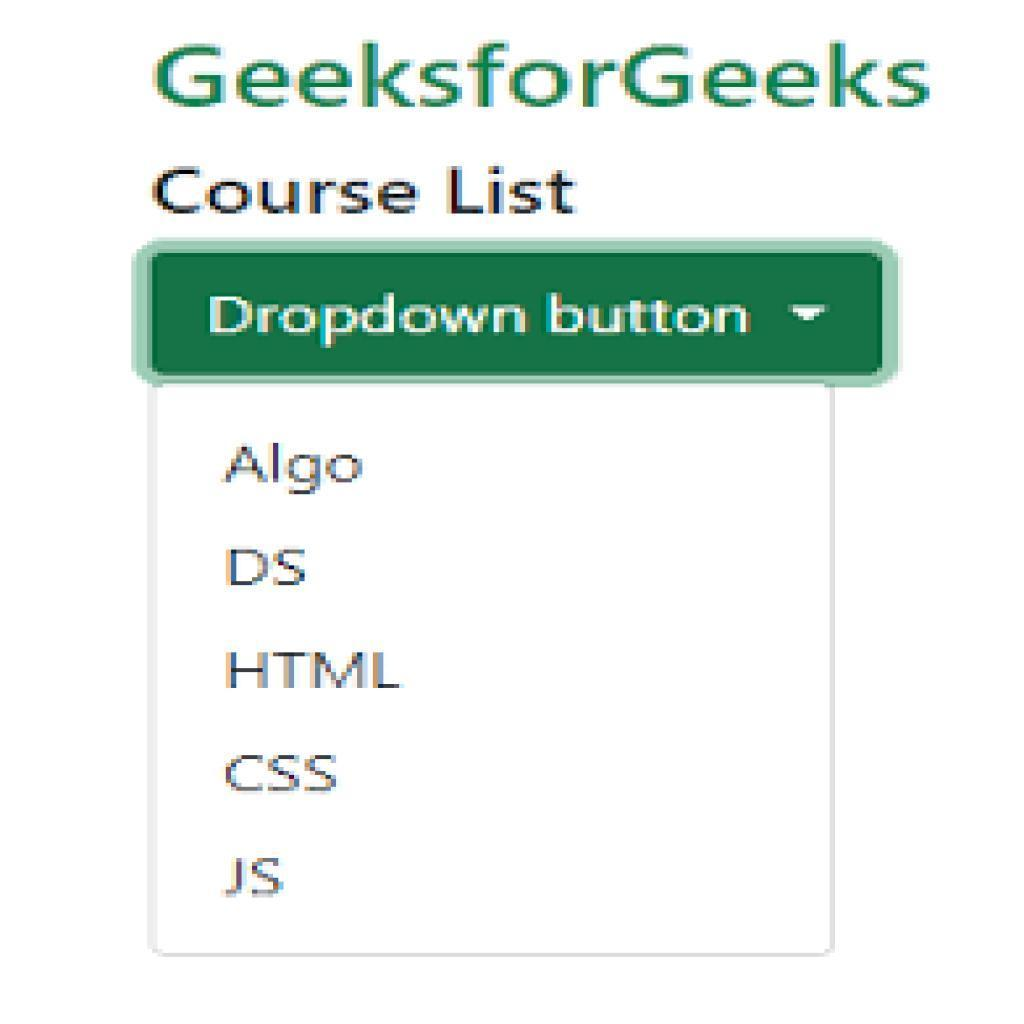dropdown: (134, 241, 900, 386)
